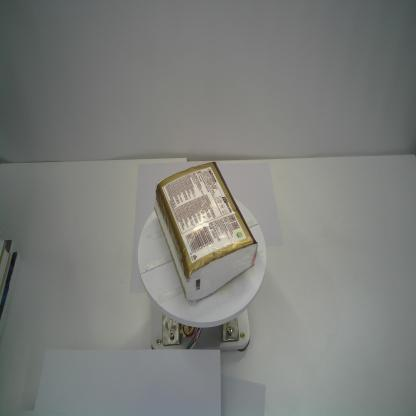Tissue: (154, 160, 258, 302)
